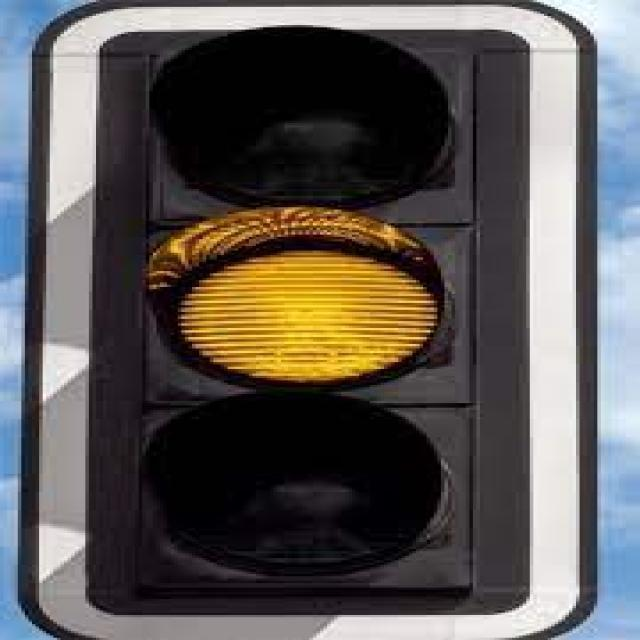yellow_light: (123, 25, 486, 595)
